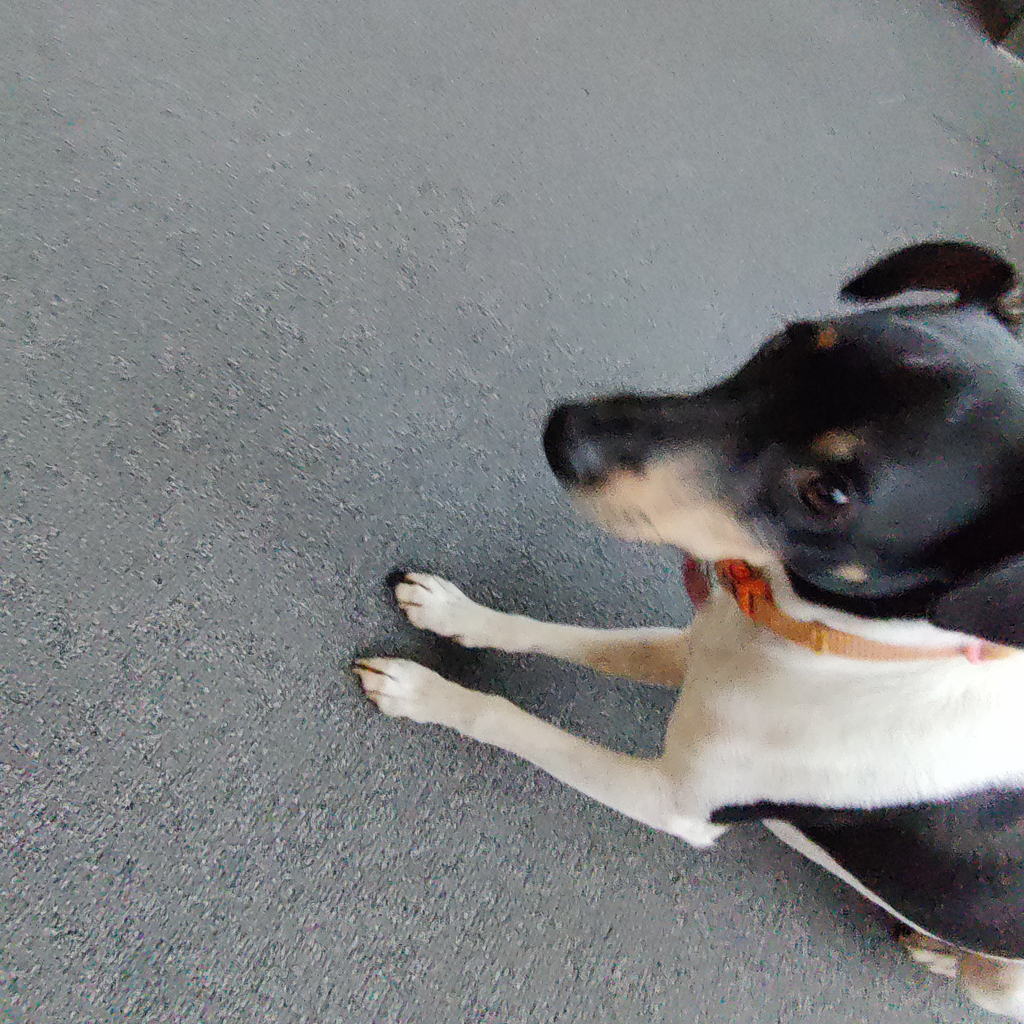Dog: (342, 226, 1024, 1024)
